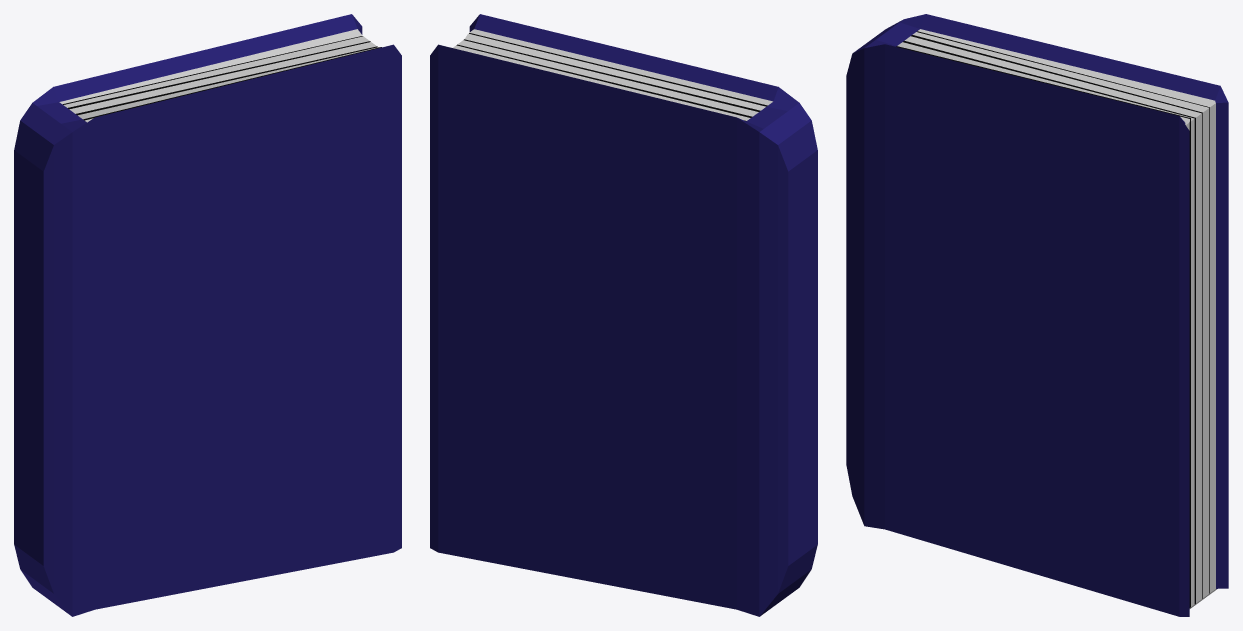
Rendered from buchBlau.fbx.
3 views of the same model, side by side, from view 1: azimuth 30°, elevation 25°; view 2: azimuth 150°, elevation 25°; view 3: azimuth 330°, elevation 25° (orthographic).
Visible parts, largest first — view 1: Cube; view 2: Cube; view 3: Cube.
Part boxes in pixels (x1,y1,x2,y2): Cube: (14,14,401,616); Cube: (430,14,817,616); Cube: (846,14,1228,616).
Bounding box in the file's own units: 14.64 × 20.12 × 3.
